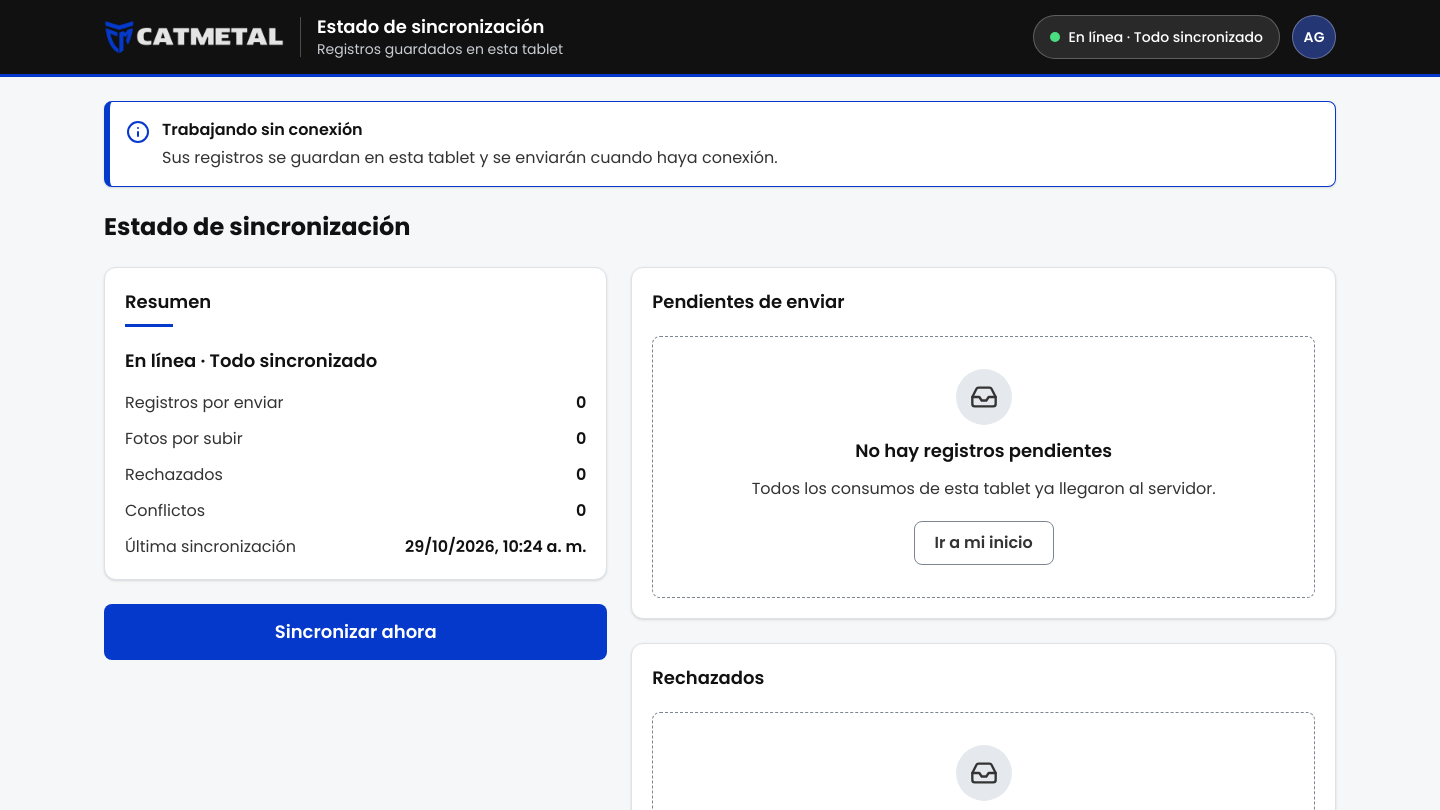
Test: Estado de sincronización › con conexión sincroniza y avisa el resultado
Expected: the element "Resumen" shows "En línea · Todo sincronizado", x1=125 y1=348 x2=377 y2=373
Expected: the element "Resumen" shows "10:24 a. m.", x1=405 y1=535 x2=586 y2=558
Click the button "Sincronizar ahora" at (356, 632), box x1=104 y1=604 x2=607 y2=660
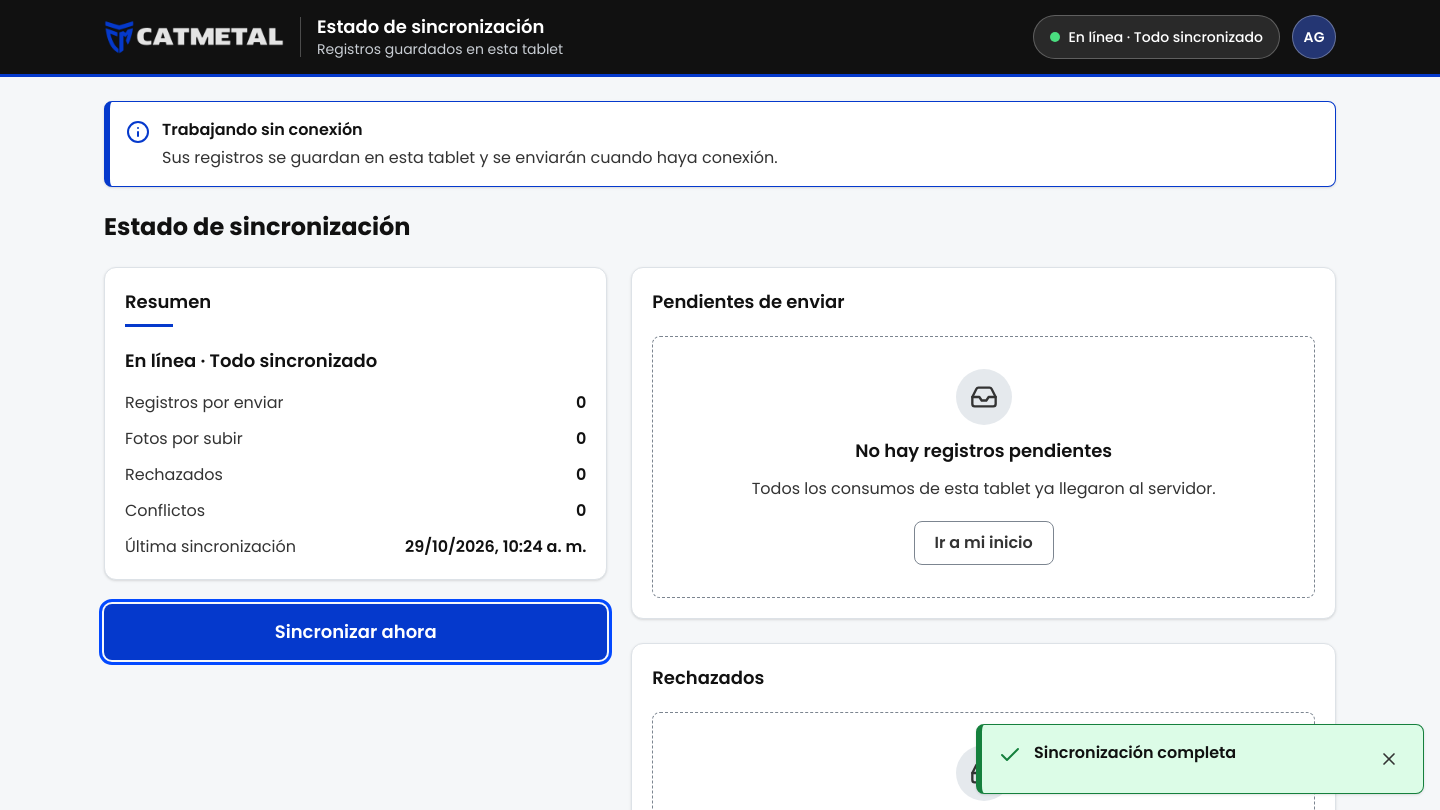
Now the text "Sincronización completa" is shown, box x1=1033 y1=740 x2=1236 y2=764
